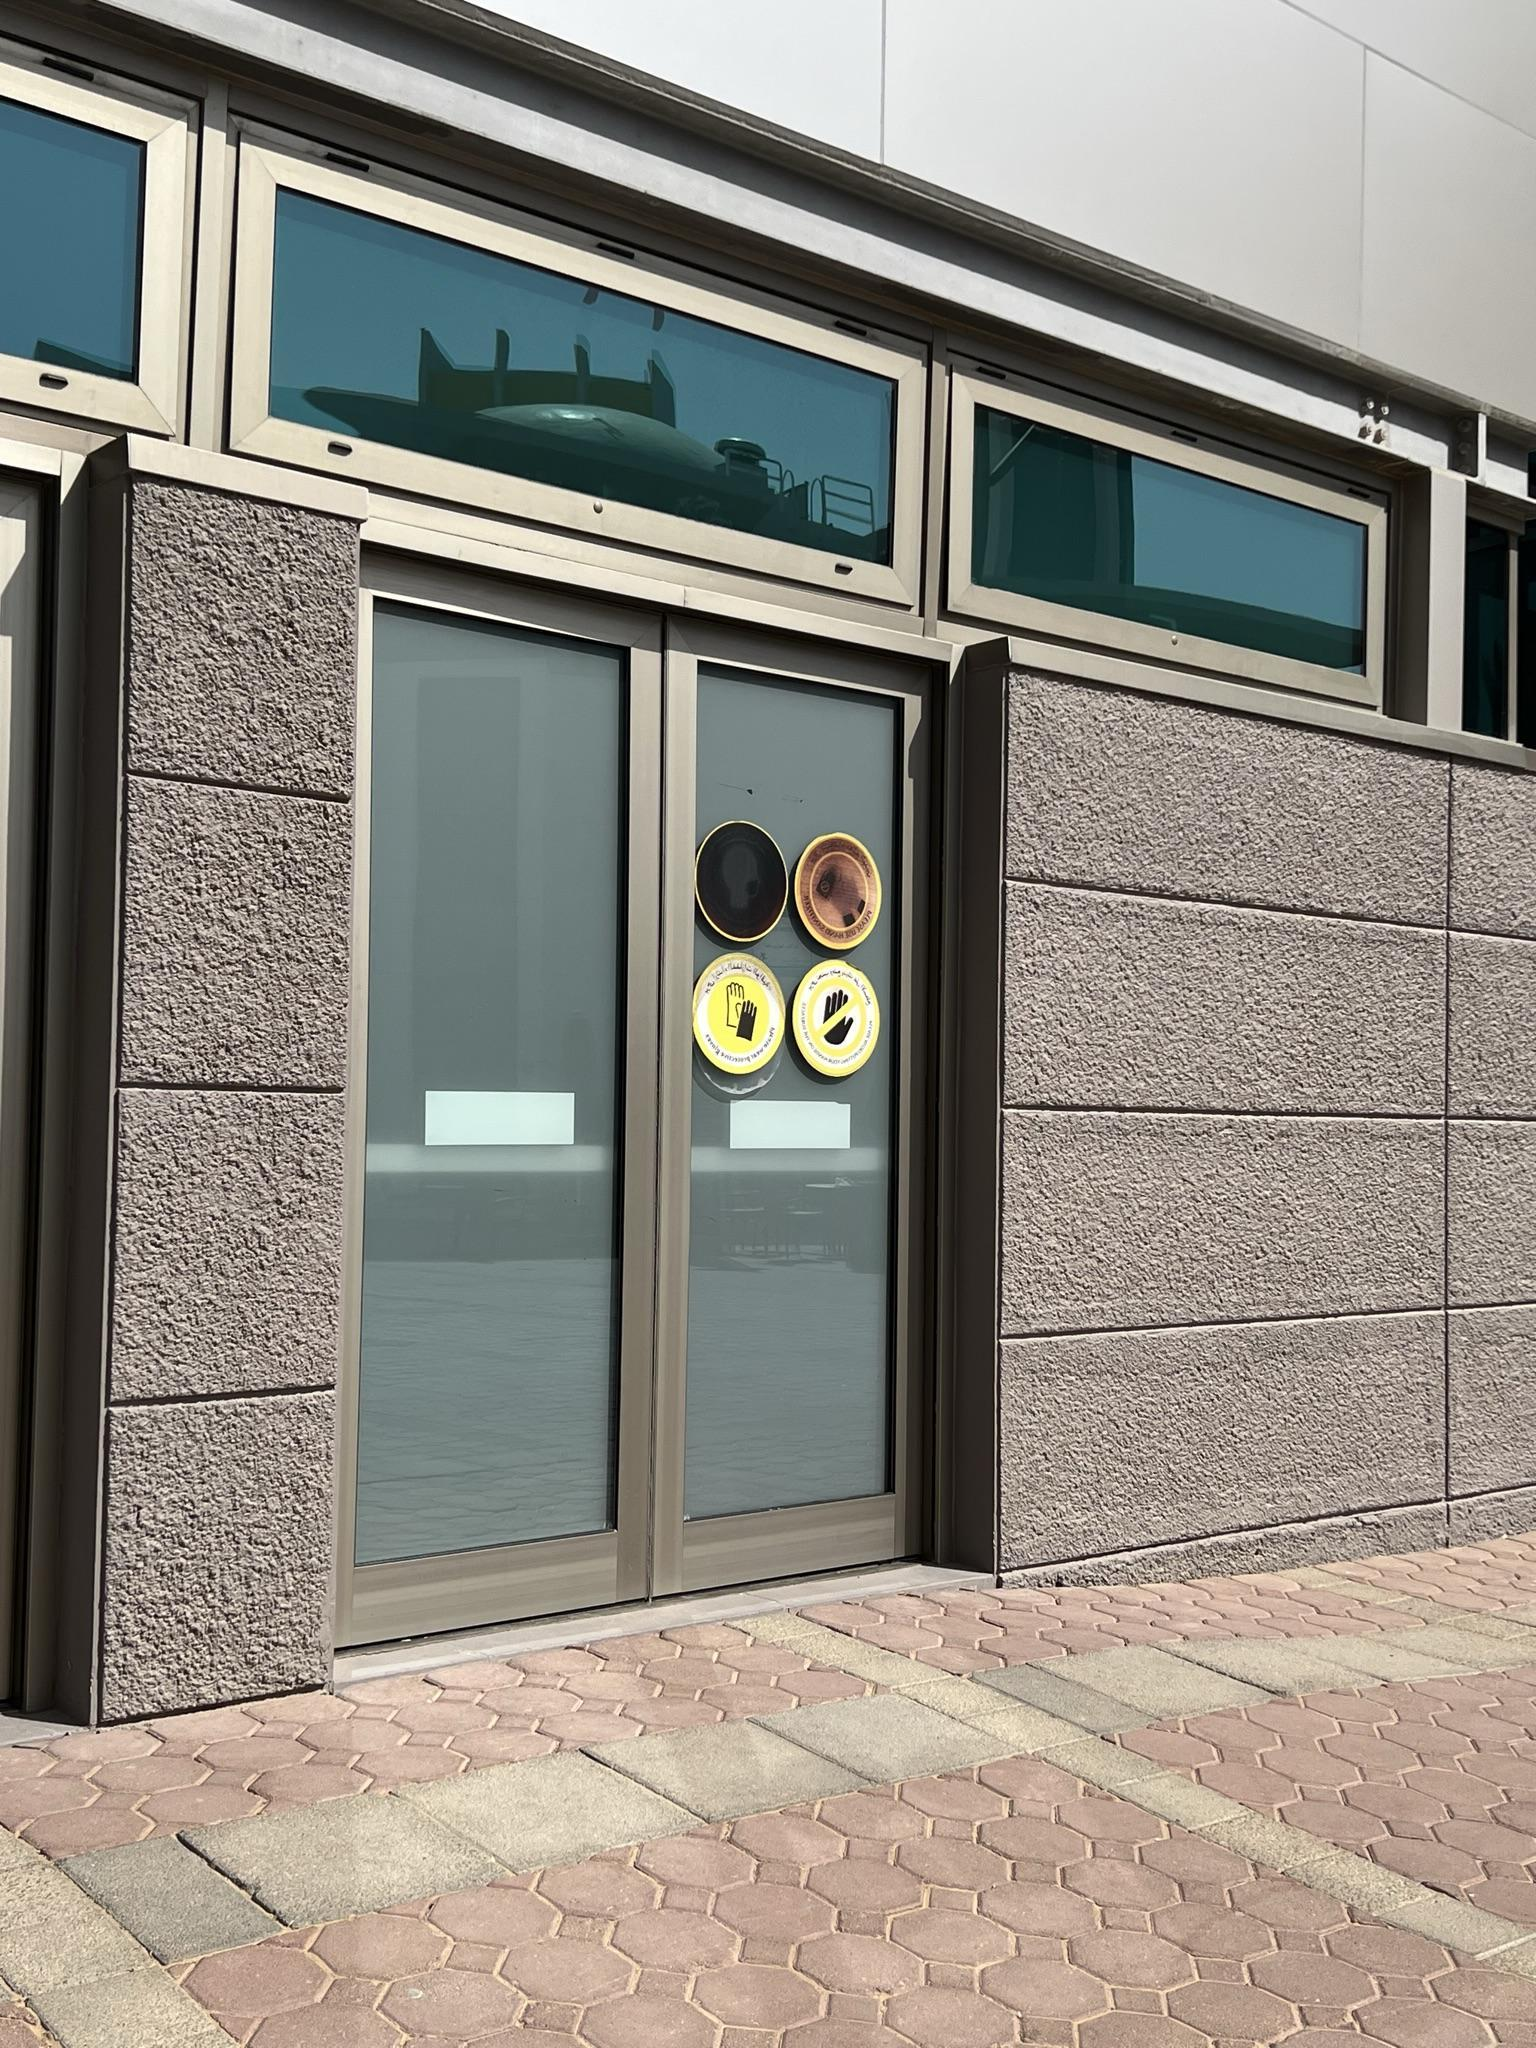door: (328, 626, 639, 1625), (647, 661, 913, 1582)
